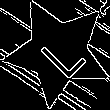L_NW: (29, 23, 87, 81)
